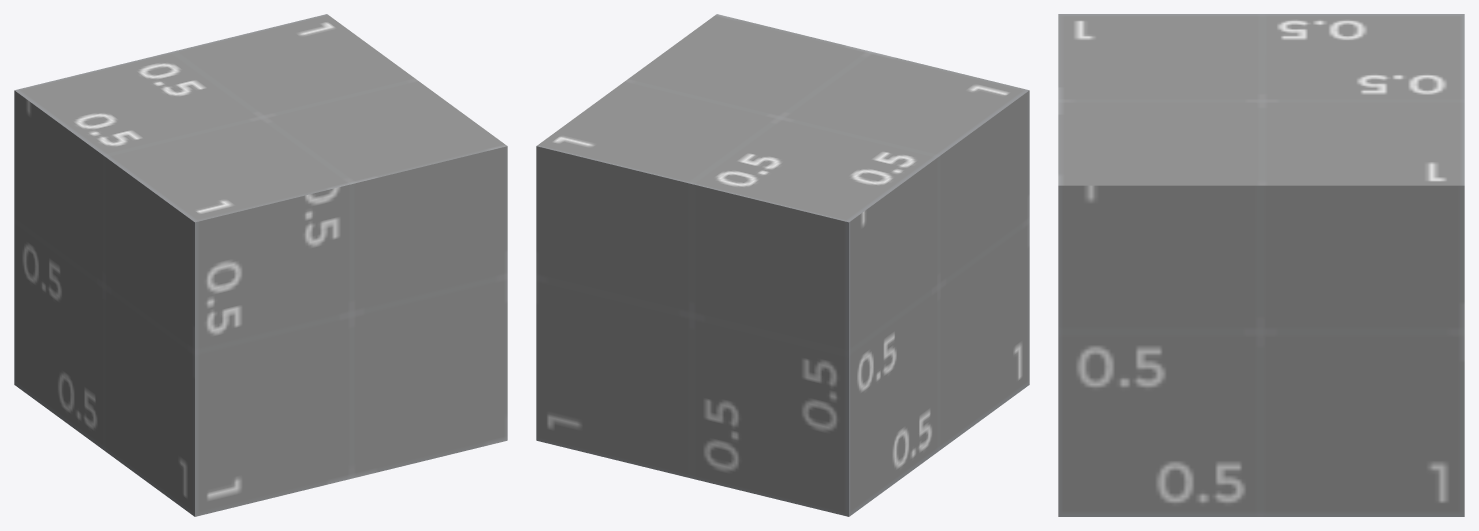
3 renders of one model, left to right at view 1: azimuth 30°, elevation 25°; view 2: azimuth 150°, elevation 25°; view 3: azimuth 270°, elevation 25°, orthographic. The views are drawn at different scales.
Parts seen in each view (by area): view 1: Cube_1_9; view 2: Cube_1_9; view 3: Cube_1_9.
Part boxes in pixels (left/top/right/bottom): Cube_1_9: left=14, top=14, right=507, bottom=516; Cube_1_9: left=536, top=14, right=1029, bottom=516; Cube_1_9: left=1058, top=14, right=1464, bottom=516.
Size of the model in its own units: 1 by 0.9 by 1.
